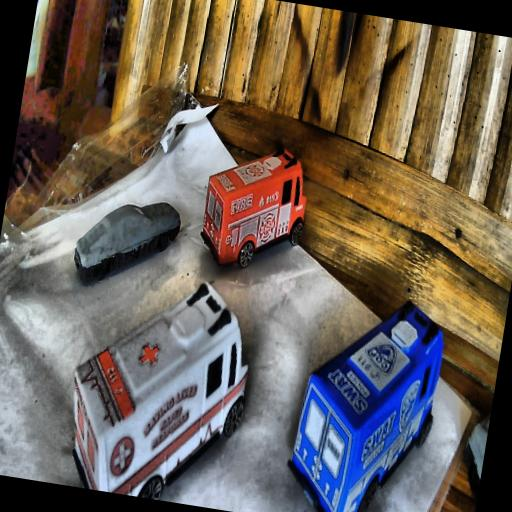ambulance: (58, 262, 260, 510)
fire_truck: (192, 134, 310, 278)
normal_car: (68, 188, 184, 298)
police car: (278, 283, 451, 512)
